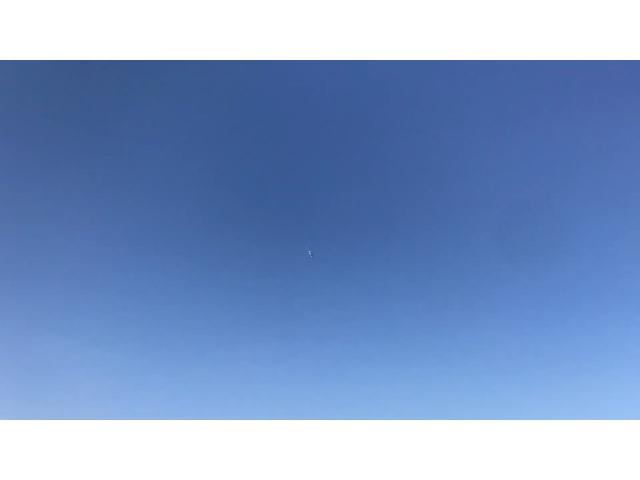Anti-Drone: (292, 239, 324, 263)
